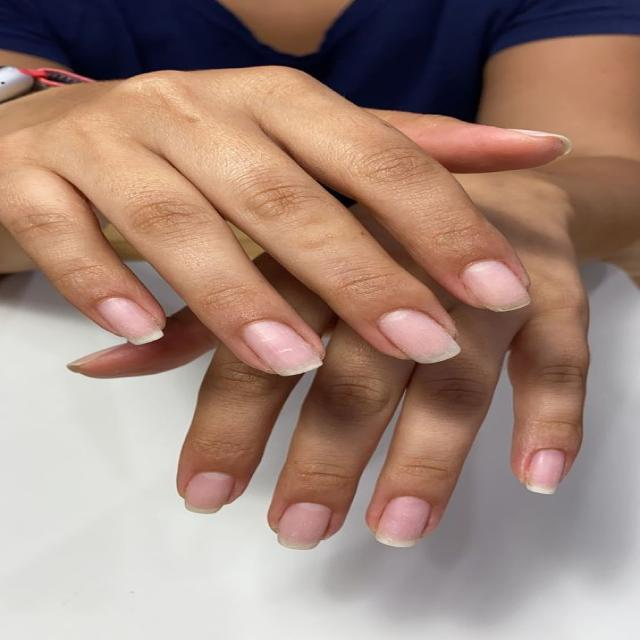Fingernail: (379, 308, 459, 363), (242, 320, 320, 375), (462, 259, 529, 311), (97, 297, 161, 344), (376, 496, 430, 546), (279, 502, 330, 549), (185, 472, 233, 513), (526, 450, 565, 494)
